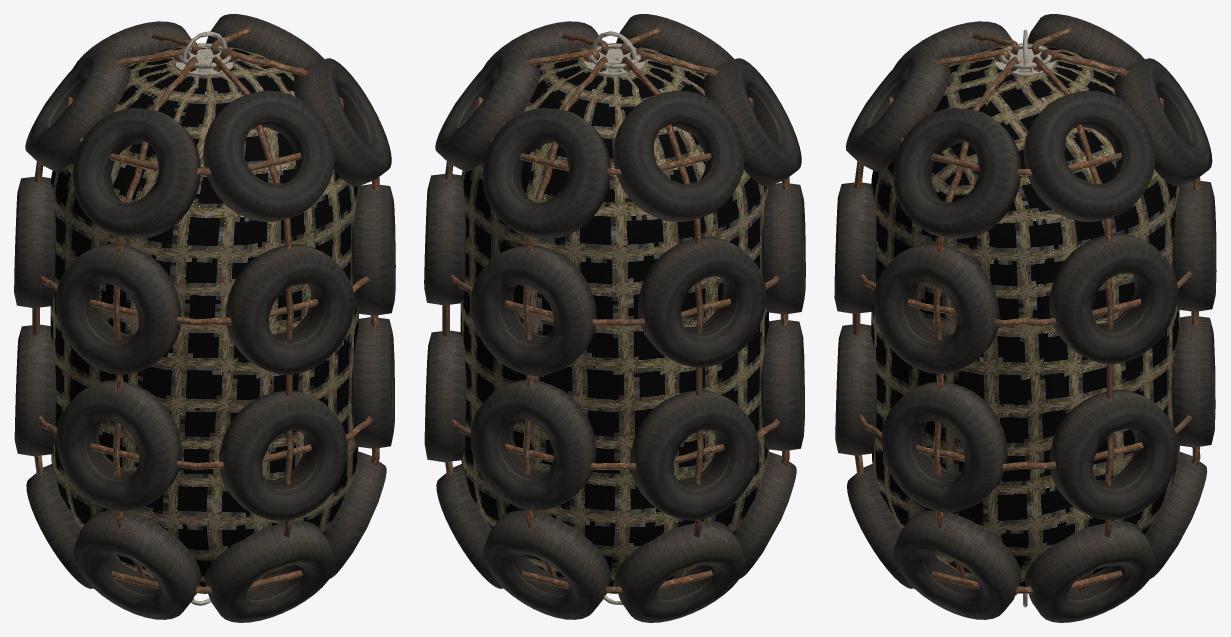
File: bumper_tire_bag.glb
The picture shows the model from 3 angles, left to right: view 1: azimuth 30°, elevation 25°; view 2: azimuth 150°, elevation 25°; view 3: azimuth 270°, elevation 25°; orthographic projection.
Parts seen in each view (by area): view 1: bumper_tire_bag_LOD0; view 2: bumper_tire_bag_LOD0; view 3: bumper_tire_bag_LOD0.
Boxes of the visible parts, bbox=[...] form: bumper_tire_bag_LOD0: bbox=[14, 14, 395, 622]; bumper_tire_bag_LOD0: bbox=[424, 14, 805, 622]; bumper_tire_bag_LOD0: bbox=[834, 14, 1216, 622].
Size of the model in its own units: 2.27 by 3.67 by 2.22.
5 materials, 5 textured.
